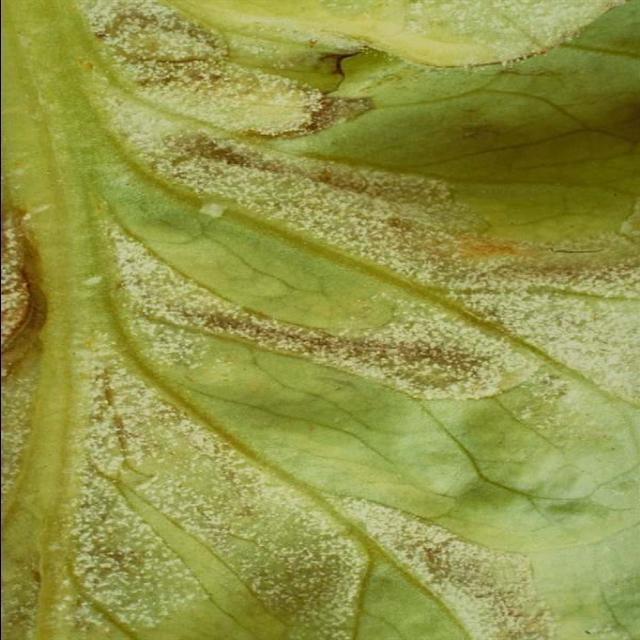Powdery_Mildew: (70, 5, 626, 399)
